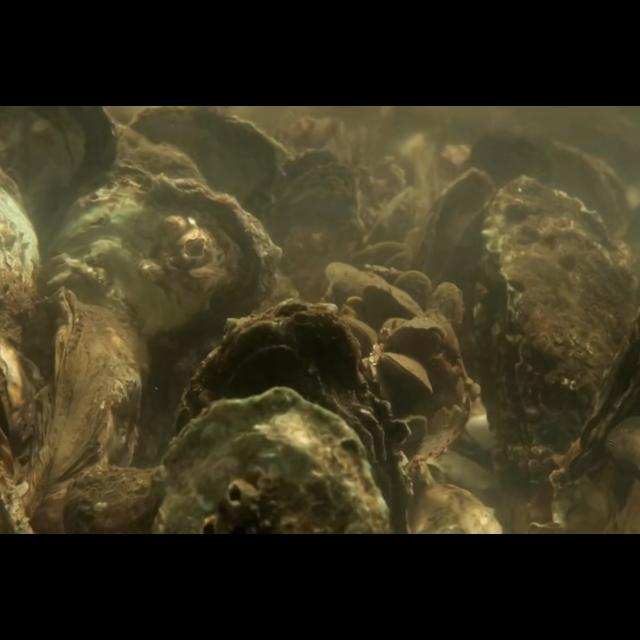Oyster-Closed: (49, 172, 283, 448), (180, 298, 410, 534), (148, 387, 388, 535), (27, 287, 146, 535), (418, 166, 498, 320), (363, 283, 423, 319), (386, 324, 448, 356), (392, 270, 432, 318), (431, 282, 464, 332)
Oyster-Open: (471, 174, 631, 471), (261, 148, 357, 290), (379, 353, 433, 395)
